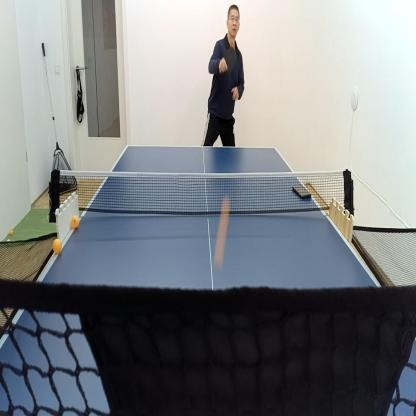Ball: (214, 195, 230, 266), (53, 238, 62, 251), (71, 216, 79, 228), (6, 237, 11, 243), (8, 228, 13, 234)
